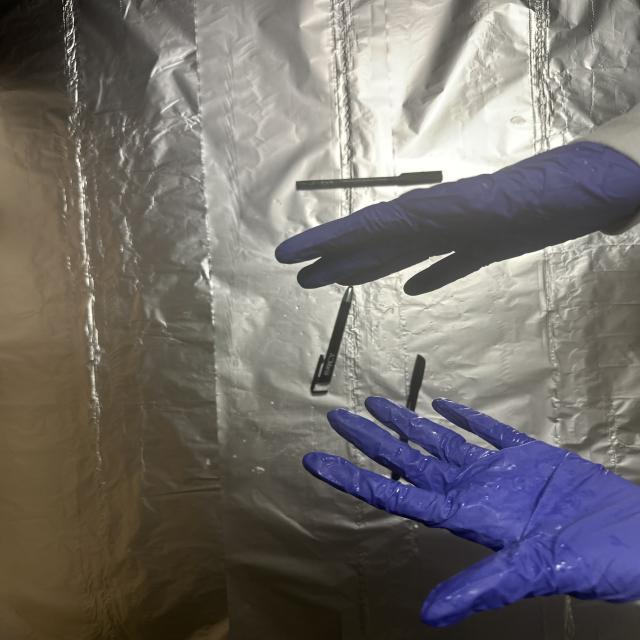gloves_contaminated: (303, 397, 640, 627), (276, 142, 640, 295)
